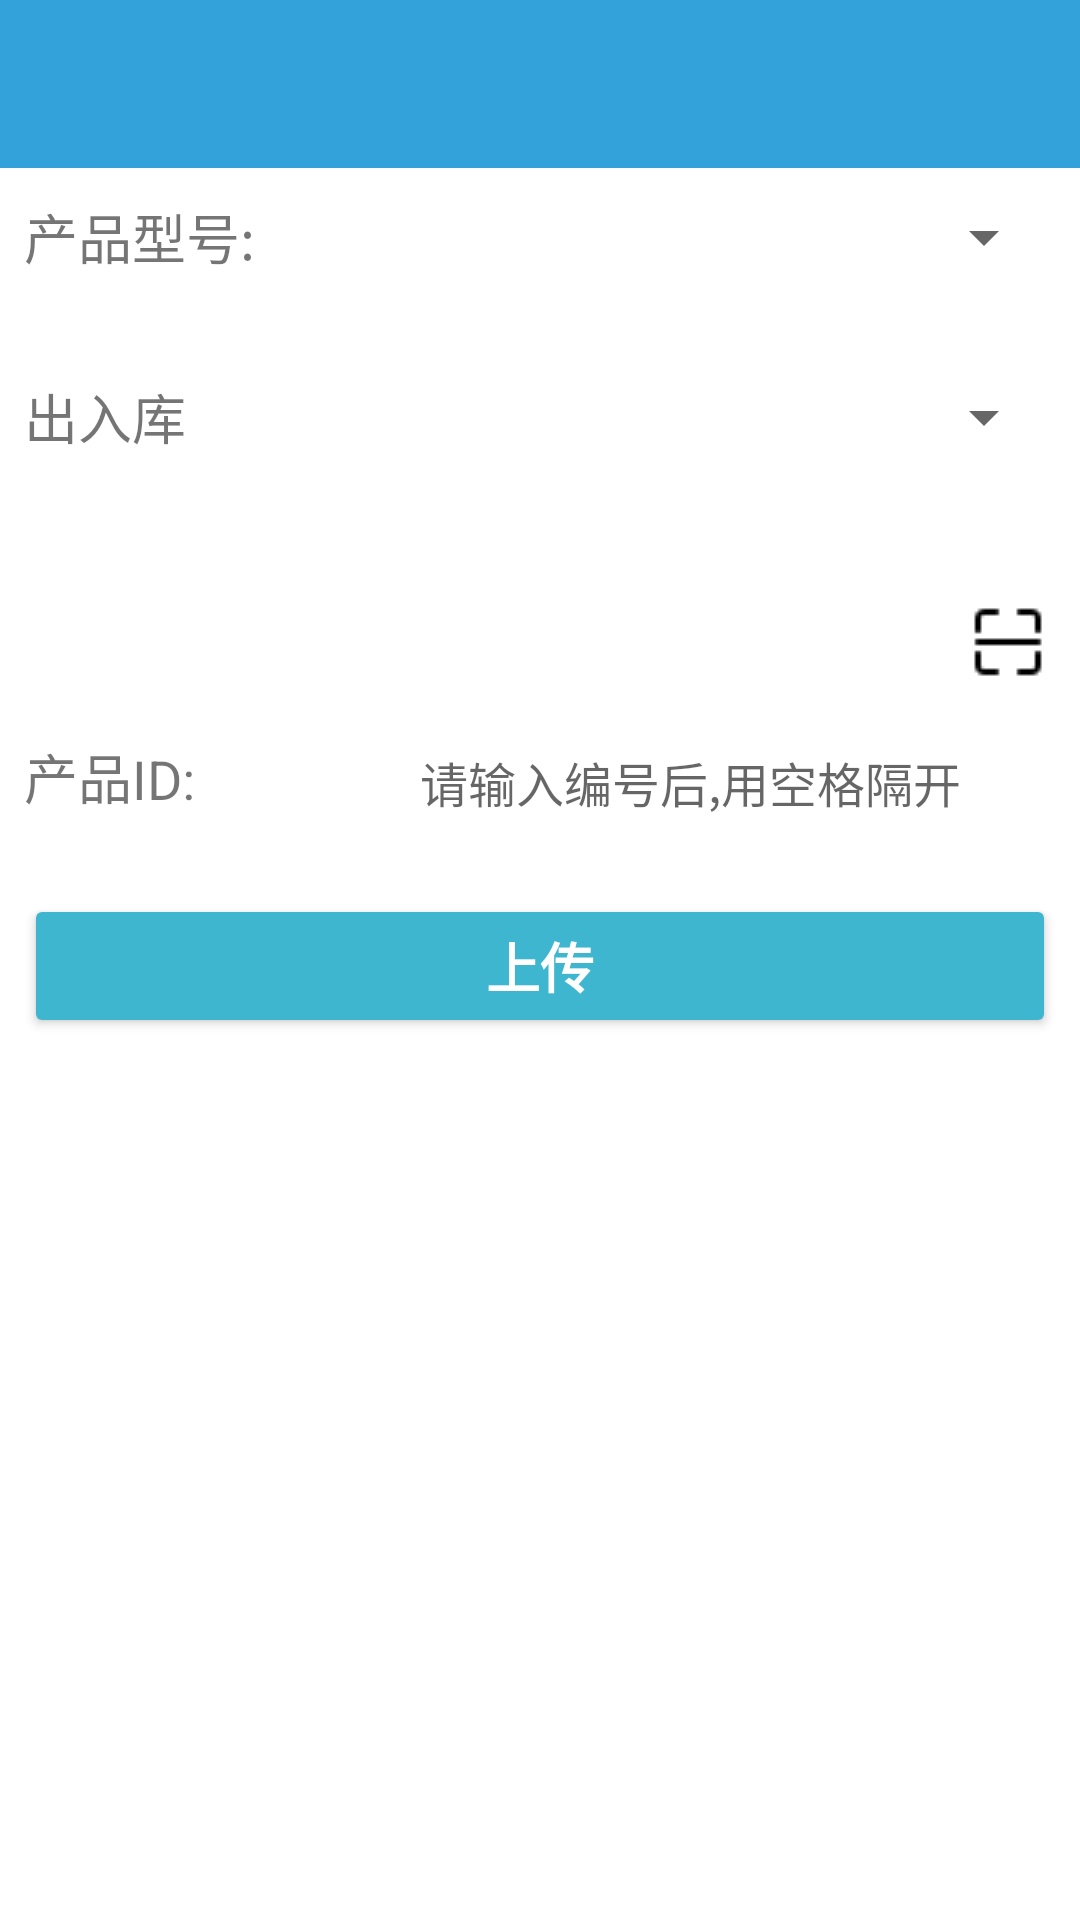

Screen size 1080×1920. Icon name, then its box in pixels as (x1, y1, x2, y2):
scan: (974, 608, 1042, 676)
